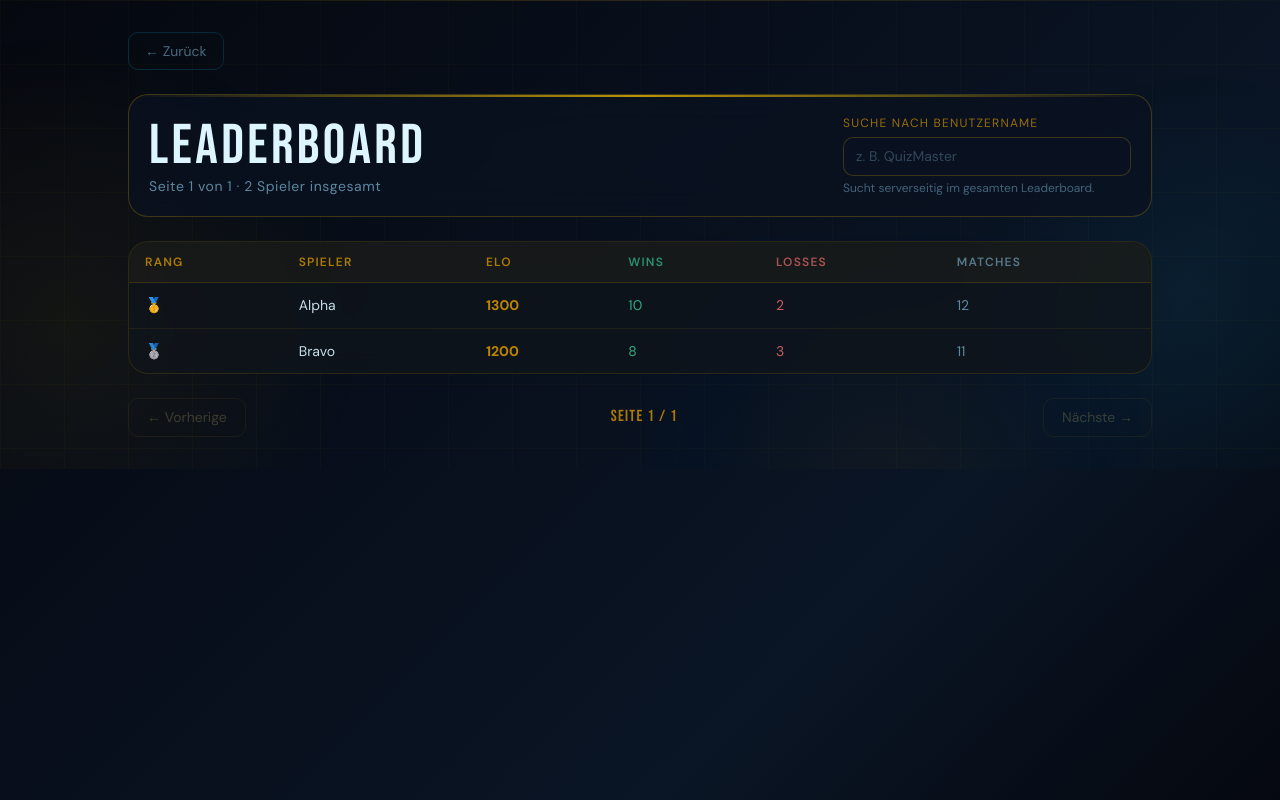
Test: LeaderboardPage › loads leaderboard entries and uses server-side username search
The image size is (1280, 800).
Check: the text "Alpha" is shown, box [283,282,470,328]
Check: the text "Bravo" is shown, box [283,328,470,373]
Type "alp" into the field labelled "Suche nach Benutzername". click: coordinates (987, 156)
box: [843,137,1131,176]
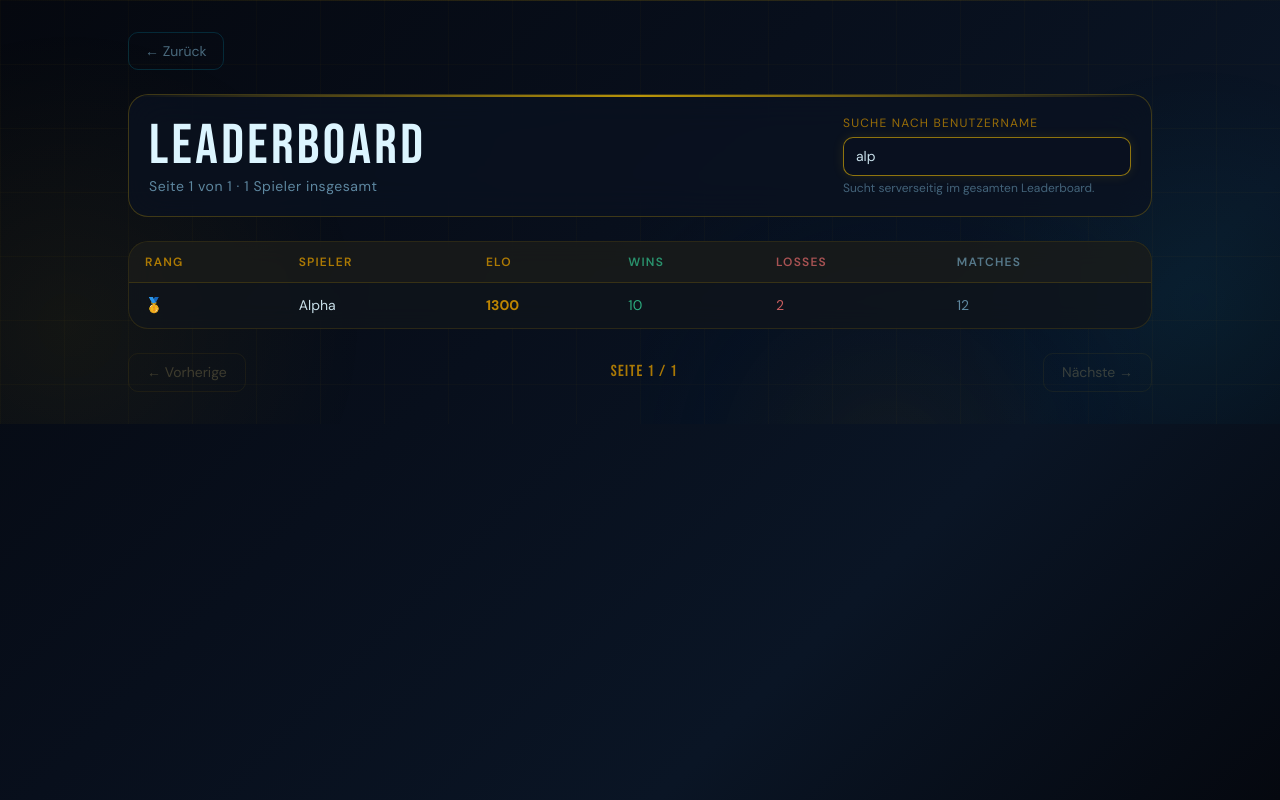
Check: the text "Alpha" is shown, box [283,282,470,328]
Check: the text "Bravo" is gone
